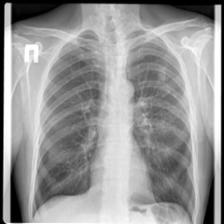tuberculosis: (27, 26, 200, 224)
